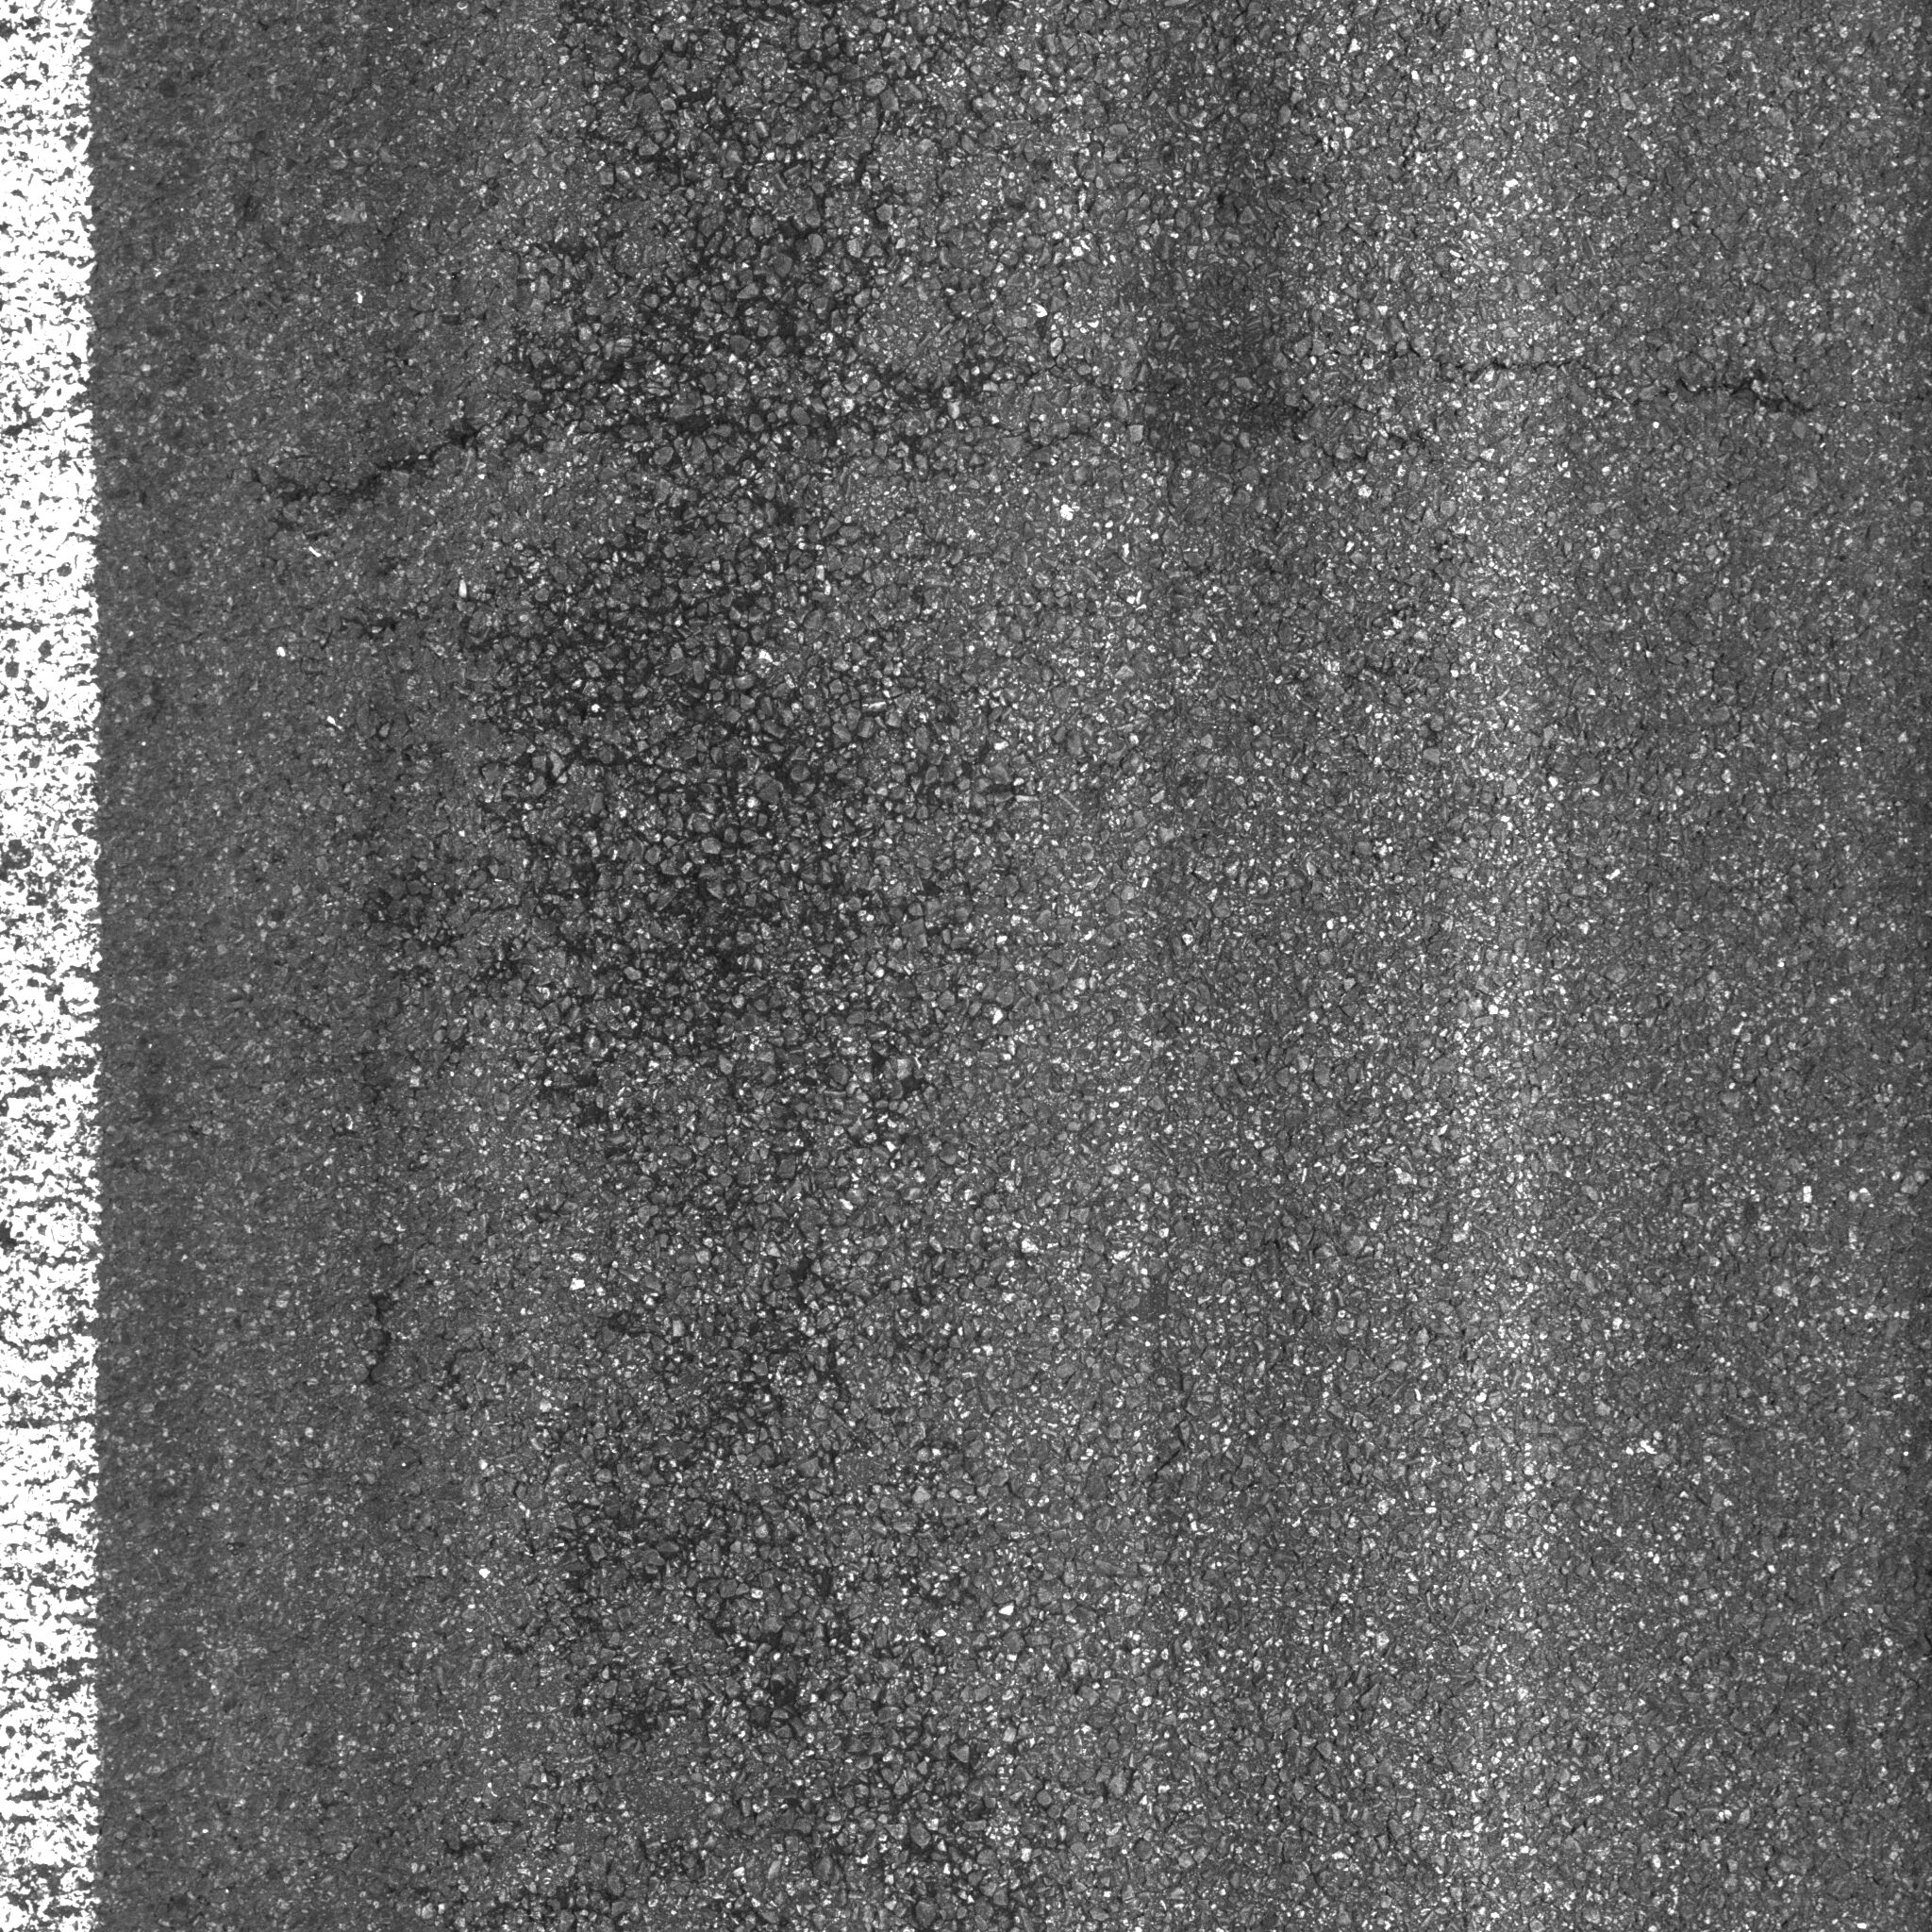transeverse: (287, 331, 1836, 529)
